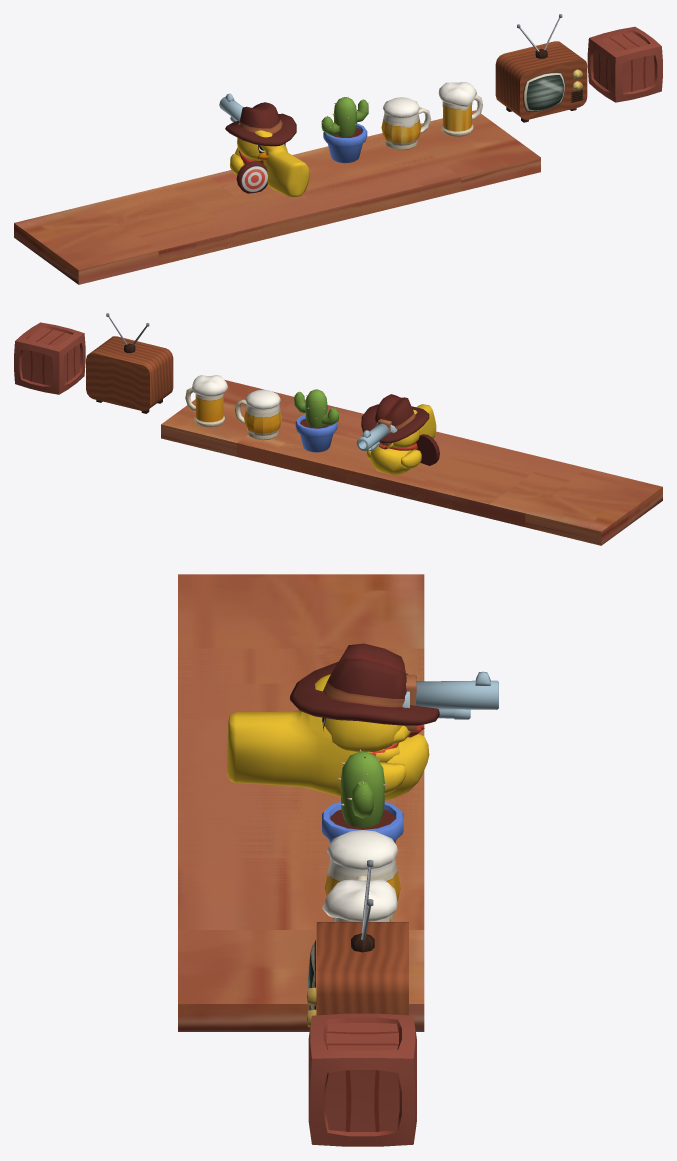
File: modely.glb
The picture shows the model from 3 angles, top to bottom: view 1: azimuth 30°, elevation 25°; view 2: azimuth 150°, elevation 25°; view 3: azimuth 270°, elevation 25°; orthographic projection. The views are drawn at different scales.
Visible parts, largest first — view 1: shelf_5, shelf_4, prop_tv, shelf_2, crate, shelf_3, prop_cactus_pot, hat, prop_beer_mug, hand, prop_beer_mug_2, target (+3 smaller); view 2: shelf_5, shelf_4, shelf_3, prop_tv, crate, prop_cactus_pot, hat, prop_beer_mug, prop_beer_mug_2, duck, shelf_1, gun (+3 smaller); view 3: shelf_5, shelf_4, shelf_3, crate, prop_tv, hand, hat, shelf_2, prop_cactus_pot, duck, prop_beer_mug, gun (+1 smaller).
Boxes of the visible parts, x1,y1,x2,y2 form: shelf_5: (14, 110, 540, 284); shelf_4: (95, 133, 461, 265); prop_tv: (495, 14, 587, 122); shelf_2: (170, 148, 384, 245); crate: (587, 26, 662, 102); shelf_3: (144, 154, 422, 255); prop_cactus_pot: (321, 96, 368, 163); hat: (225, 102, 296, 146); prop_beer_mug: (381, 97, 431, 150); hand: (255, 130, 309, 197); prop_beer_mug_2: (438, 82, 482, 136); target: (236, 161, 267, 193); shelf_5: (161, 380, 662, 545); shelf_4: (237, 399, 586, 526); shelf_3: (273, 416, 549, 504); prop_tv: (86, 313, 173, 413); crate: (14, 322, 85, 394); prop_cactus_pot: (294, 389, 338, 452); hat: (361, 394, 429, 443); prop_beer_mug: (235, 389, 281, 440); prop_beer_mug_2: (185, 375, 227, 427); duck: (370, 429, 419, 474); shelf_1: (345, 469, 424, 500); gun: (356, 419, 397, 451); shelf_5: (178, 574, 424, 1031); shelf_4: (178, 648, 424, 929); shelf_3: (178, 683, 424, 894); crate: (308, 1013, 416, 1146); prop_tv: (306, 860, 408, 1027); hand: (226, 674, 410, 796); hat: (290, 643, 439, 725); shelf_2: (178, 719, 424, 831); prop_cactus_pot: (322, 749, 403, 843); duck: (324, 718, 429, 799); prop_beer_mug: (324, 830, 400, 920); gun: (402, 671, 498, 731).
Size of the model in its own units: 2.21 by 0.355 by 0.5211.
Materials: 3 (3 with a texture image).
